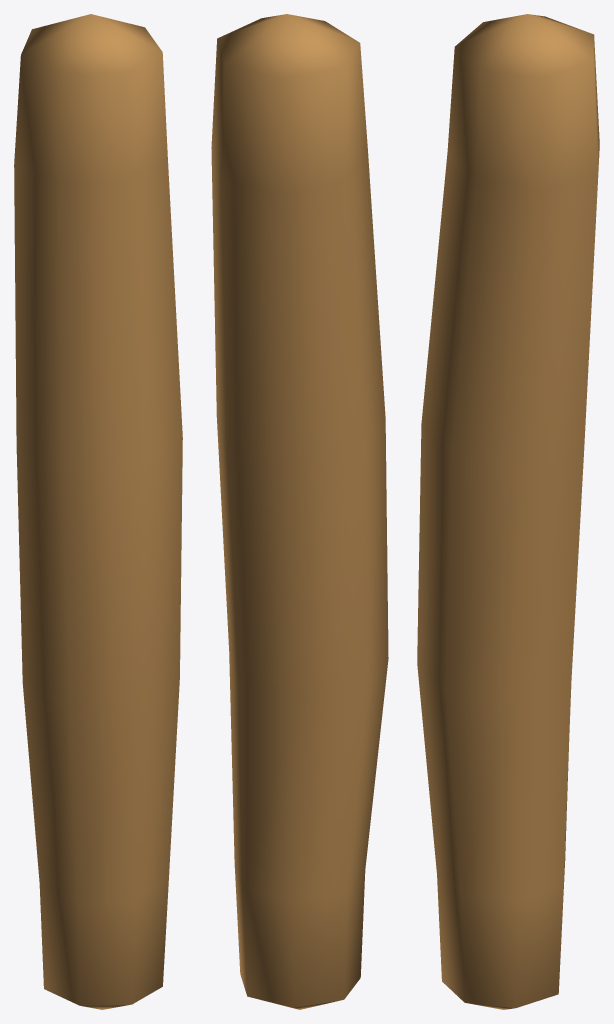
The model's file is tarsus3_T3_left_leg.obj.
3 renders of one model, left to right at view 1: azimuth 30°, elevation 25°; view 2: azimuth 150°, elevation 25°; view 3: azimuth 270°, elevation 25°, orthographic.
Bounding box in the file's own units: 0.00238 × 0.0155 × 0.00258.
